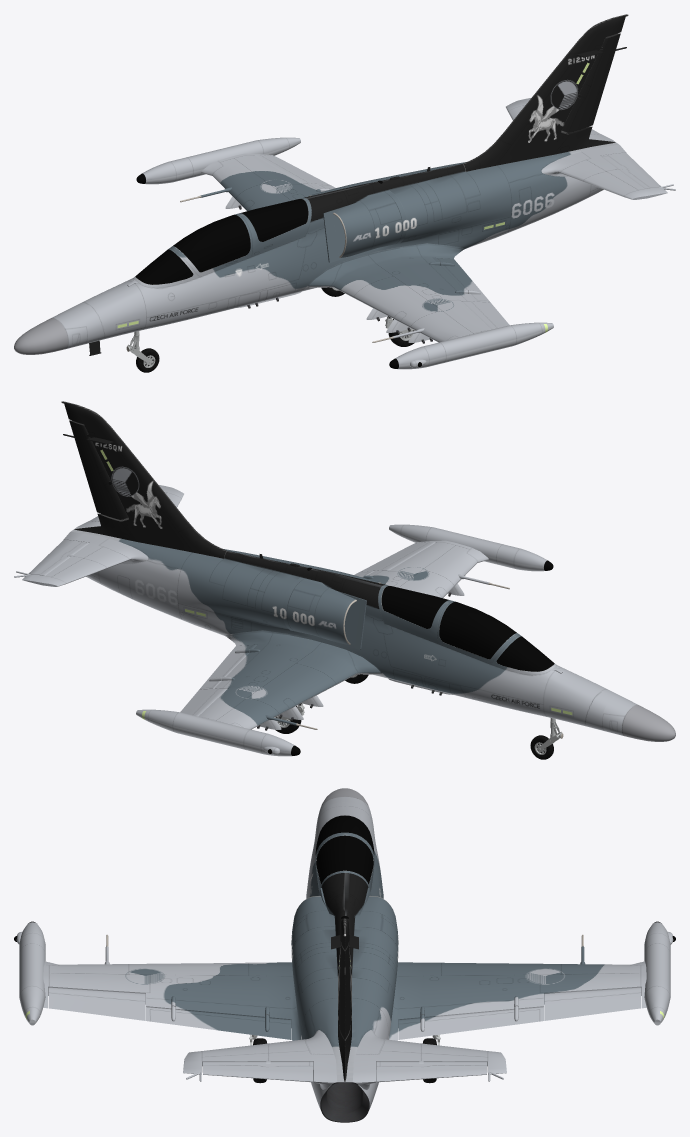
3 renders of one model, top to bottom at view 1: azimuth 30°, elevation 25°; view 2: azimuth 150°, elevation 25°; view 3: azimuth 270°, elevation 25°, orthographic. The views are drawn at different scales.
Visible parts, largest first — view 1: Fuselage, WingL, Tail, IntakeL, WingR, TankL, CanopyGlass, HorizontalStabL, CanopyGlassDoor, TankR, Nose, Rudder (+5 smaller); view 2: Fuselage, WingR, Tail, IntakeR, WingL, TankR, CanopyGlass, HorizontalStabR, CanopyGlassDoor, TankL, Nose, Rudder (+5 smaller); view 3: Fuselage, WingR, WingL, HorizontalStabR, HorizontalStabL, FlapR, FlapL, EleronR, EleronL, TankR, TankL, ElevatorR (+10 smaller).
Part boxes in pixels (x1,y1,x2,y2): Fuselage: (70,140,618,344); WingL: (307,243,491,342); Tail: (463,14,628,171); IntakeL: (323,190,407,262); WingR: (201,153,329,211); TankL: (395,322,553,369); CanopyGlass: (135,199,308,284); HorizontalStabL: (541,144,675,199); CanopyGlassDoor: (173,214,250,272); TankR: (142,137,300,184); Nose: (14,308,87,354); Rudder: (561,33,626,132); Fuselage: (71,527,619,731); WingR: (198,630,382,729); Tail: (61,401,226,558); IntakeR: (282,577,366,649); WingL: (360,540,488,598); TankR: (136,709,294,756); CanopyGlass: (381,586,554,671); HorizontalStabR: (14,531,148,586); CanopyGlassDoor: (439,601,516,659); TankL: (389,524,547,571); Nose: (602,695,675,741); Rudder: (63,420,128,519); Fuselage: (292,802,397,1109); WingR: (389,946,646,1040); WingL: (43,946,300,1040); HorizontalStabR: (352,1030,506,1089); HorizontalStabL: (183,1030,337,1089); FlapR: (398,1006,543,1039); FlapL: (146,1006,291,1039); EleronR: (544,987,641,1020); EleronL: (48,987,145,1020); TankR: (644,922,673,1025); TankL: (16,922,45,1025); ElevatorR: (376,1061,487,1082).
Bounding box in the file's own units: 12.75 × 4.84 × 9.63.
5 materials, 1 textured.
